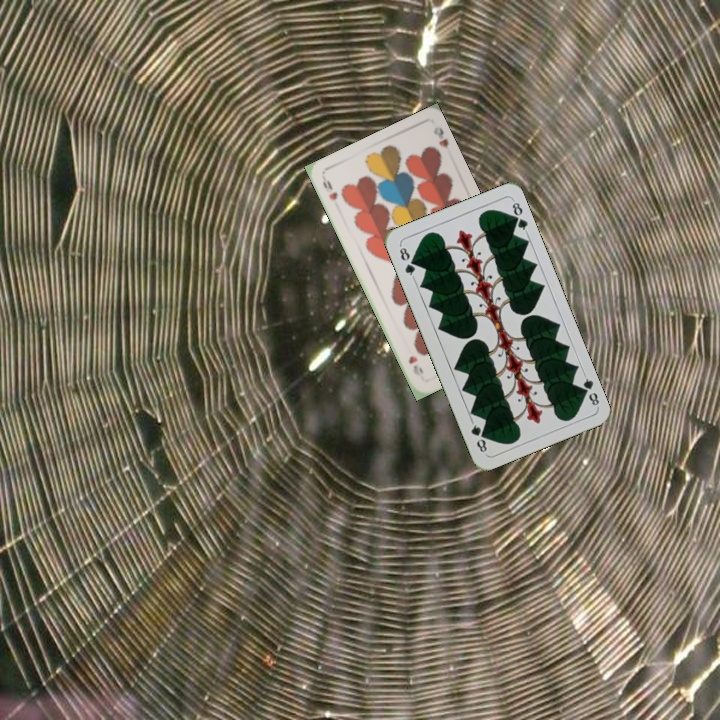G8: (576, 370, 602, 410), (395, 242, 418, 280)
H9: (318, 173, 340, 203)
